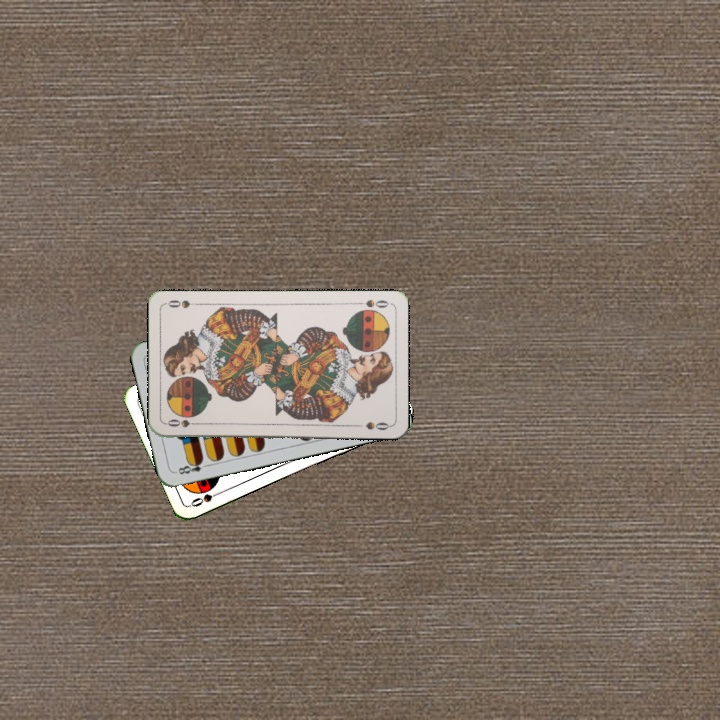E8: (172, 455, 212, 477)
SO: (187, 487, 226, 509), (163, 415, 203, 430), (351, 296, 391, 310)
